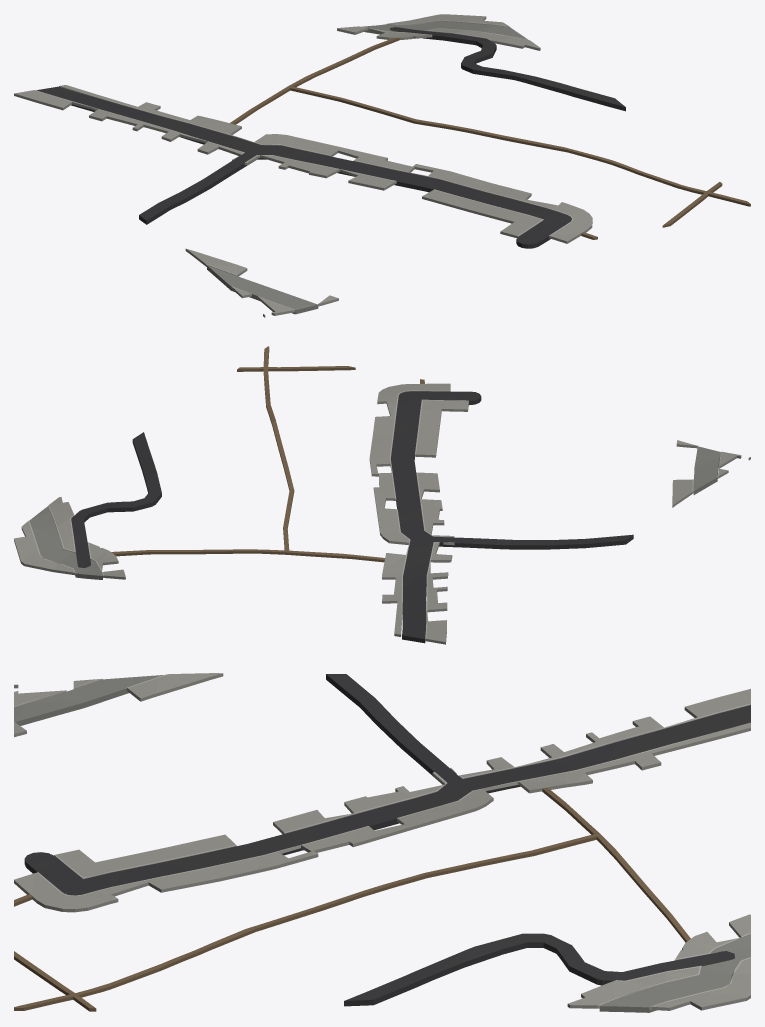
Rendered from 18-218875-118919.c344afb9.glb.
3 renders of one model, top to bottom at view 1: azimuth 30°, elevation 25°; view 2: azimuth 150°, elevation 25°; view 3: azimuth 270°, elevation 25°, orthographic. The views are drawn at different scales.
Bounding box in the file's own units: 147 × 7.8 × 146.
